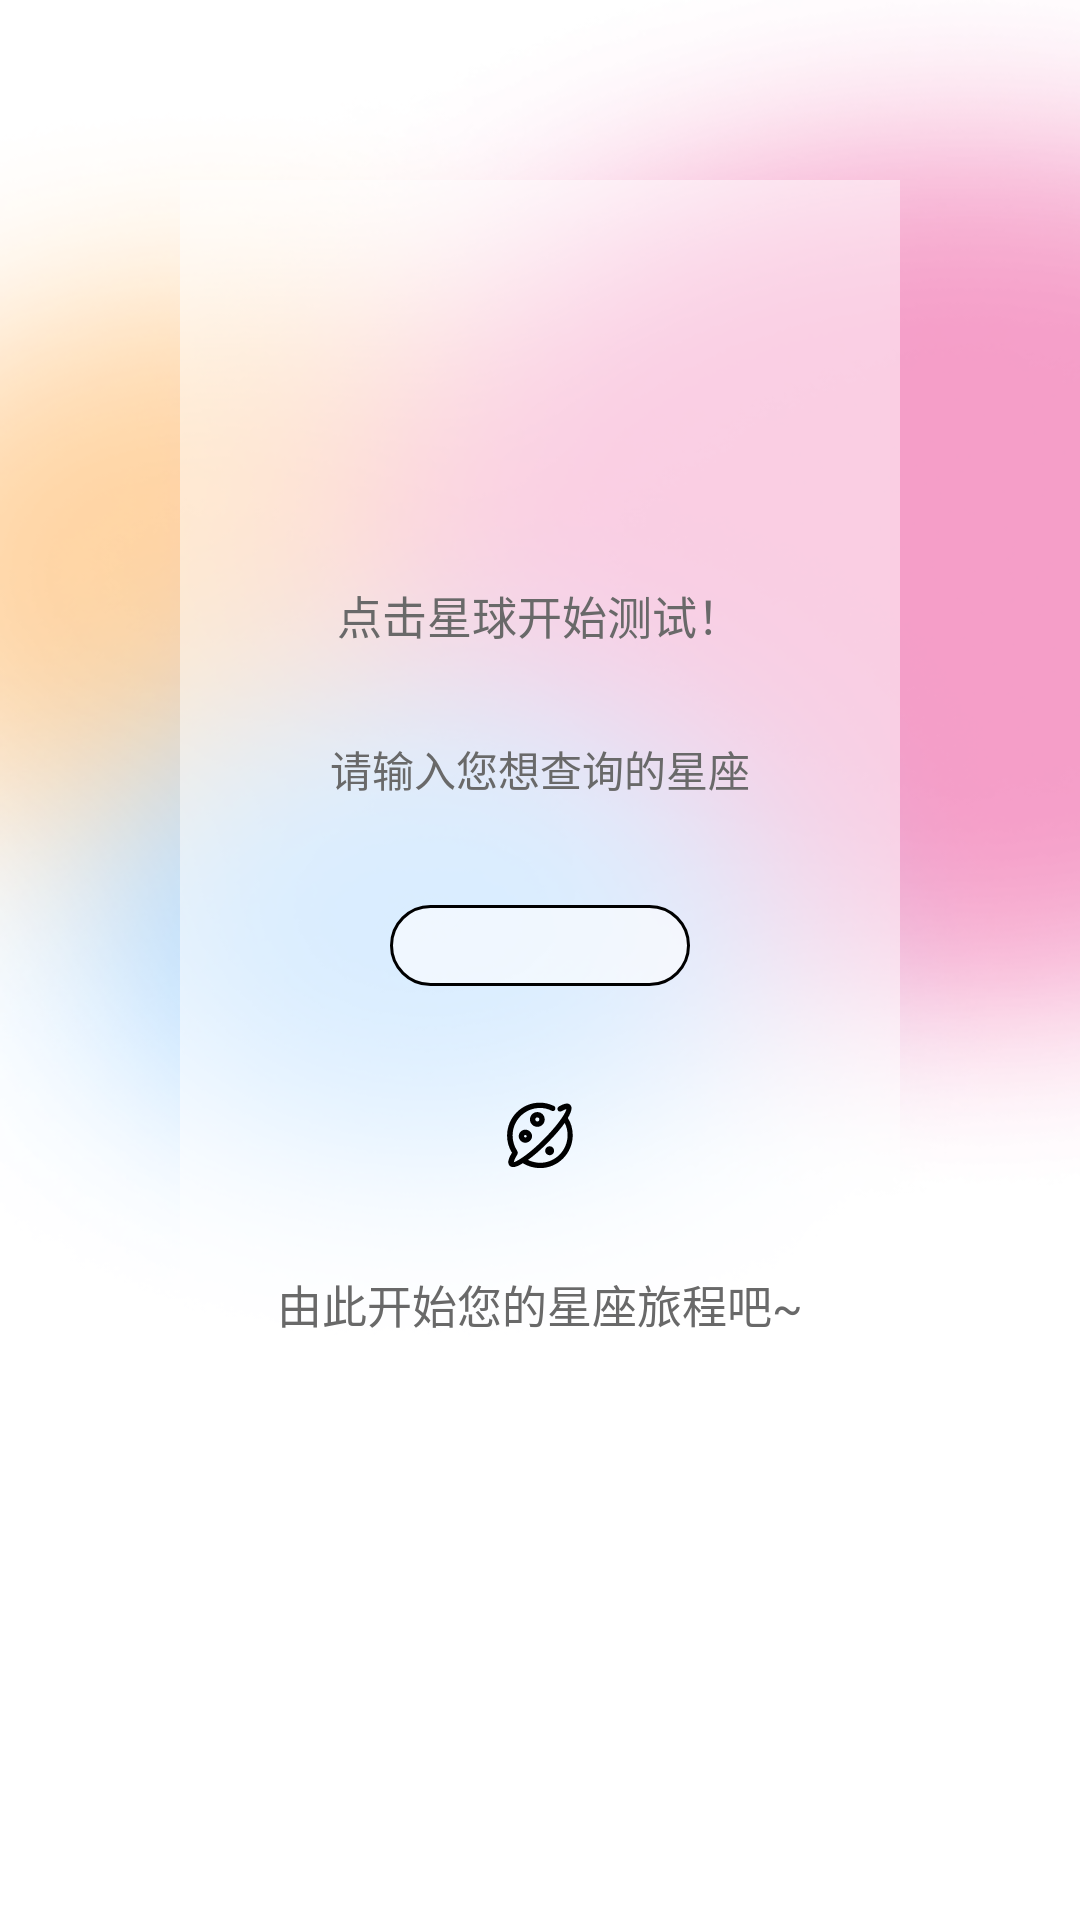

Icons on this 1080×1920 Android screen, each with the point to tap as point (x, y):
xingzuo: point (540, 1135)
